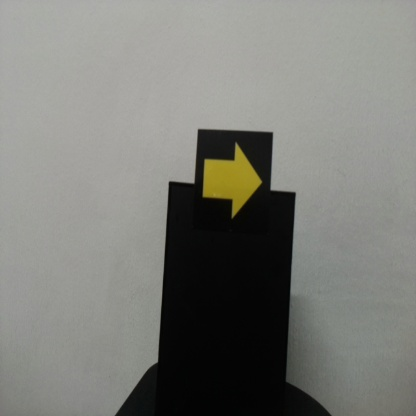id_3: (197, 130, 272, 226)
